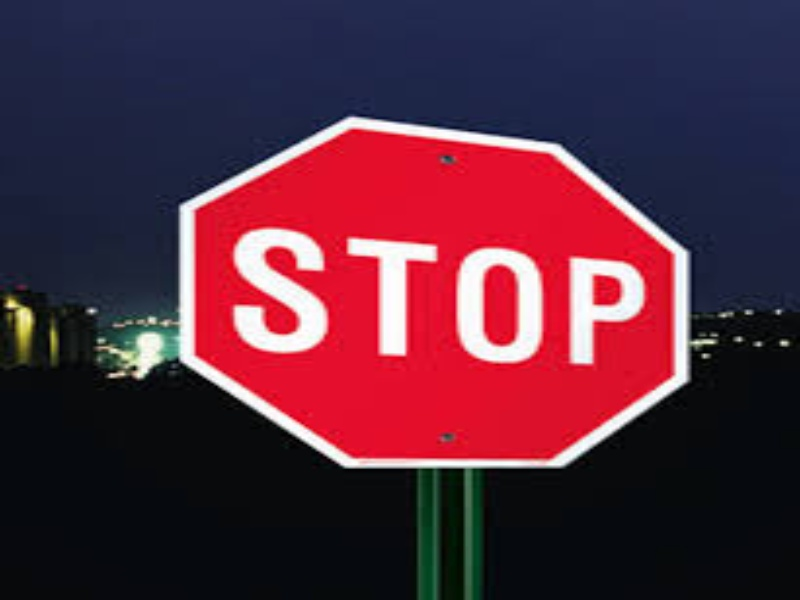Stop_Sign: (177, 118, 695, 474)
